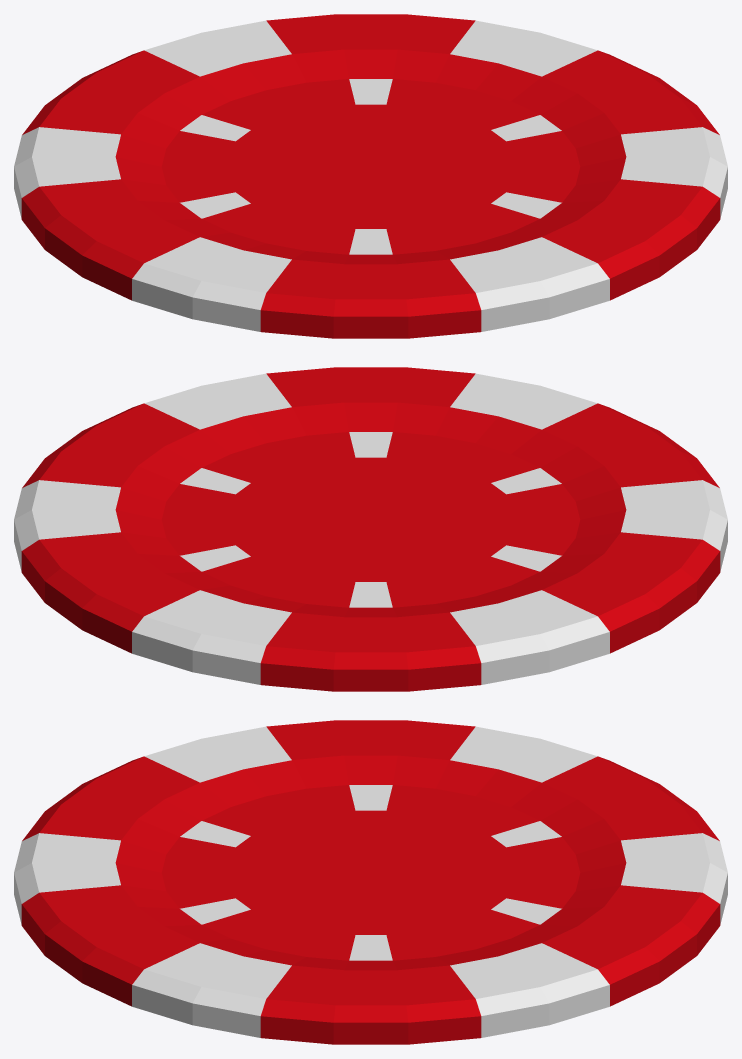
Rendered from Chip.gltf.
3 views of the same model, one above another, from view 1: azimuth 30°, elevation 25°; view 2: azimuth 150°, elevation 25°; view 3: azimuth 270°, elevation 25° (orthographic).
Parts seen in each view (by area): view 1: Chip; view 2: Chip; view 3: Chip.
Part boxes in pixels (x1,y1,x2,y2): Chip: (14, 14, 727, 338); Chip: (14, 367, 727, 691); Chip: (14, 720, 727, 1044).
Bounding box in the file's own units: 1.99 × 0.0981 × 2.
